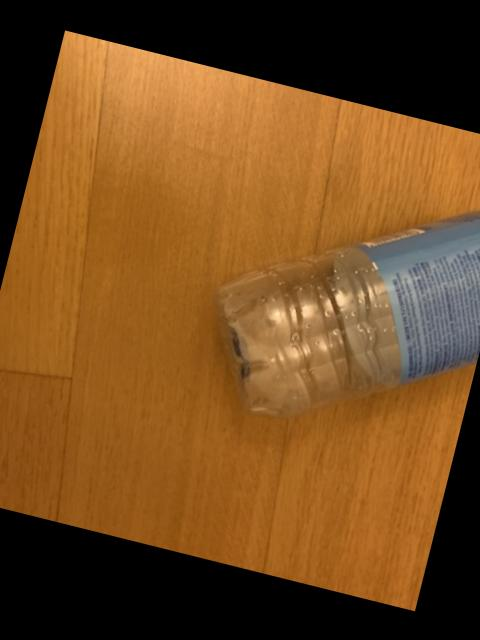plastic: (220, 210, 480, 414)
